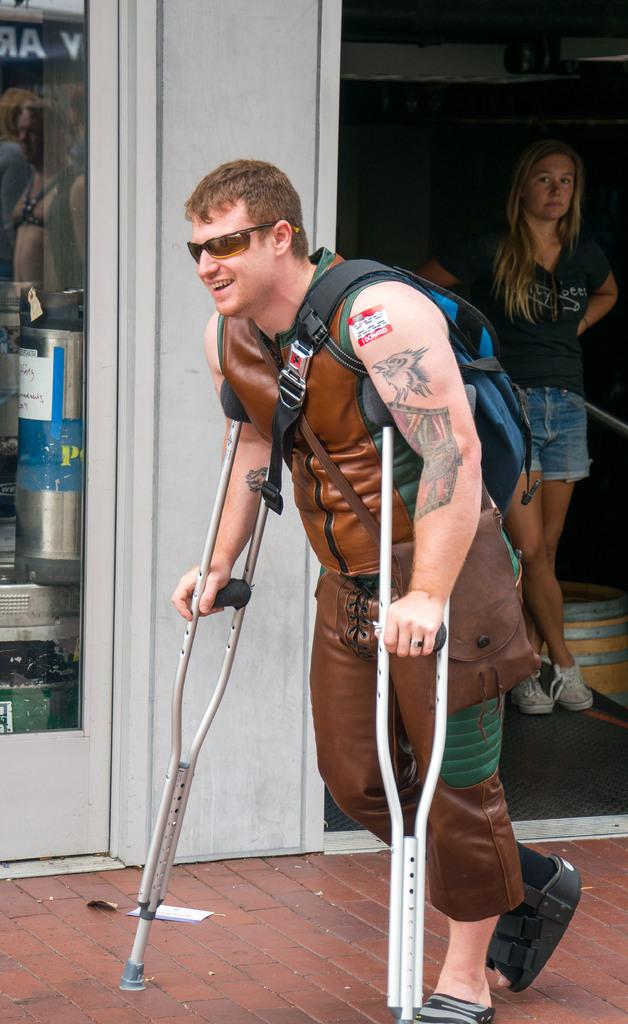crutches: (110, 158, 589, 1024)
